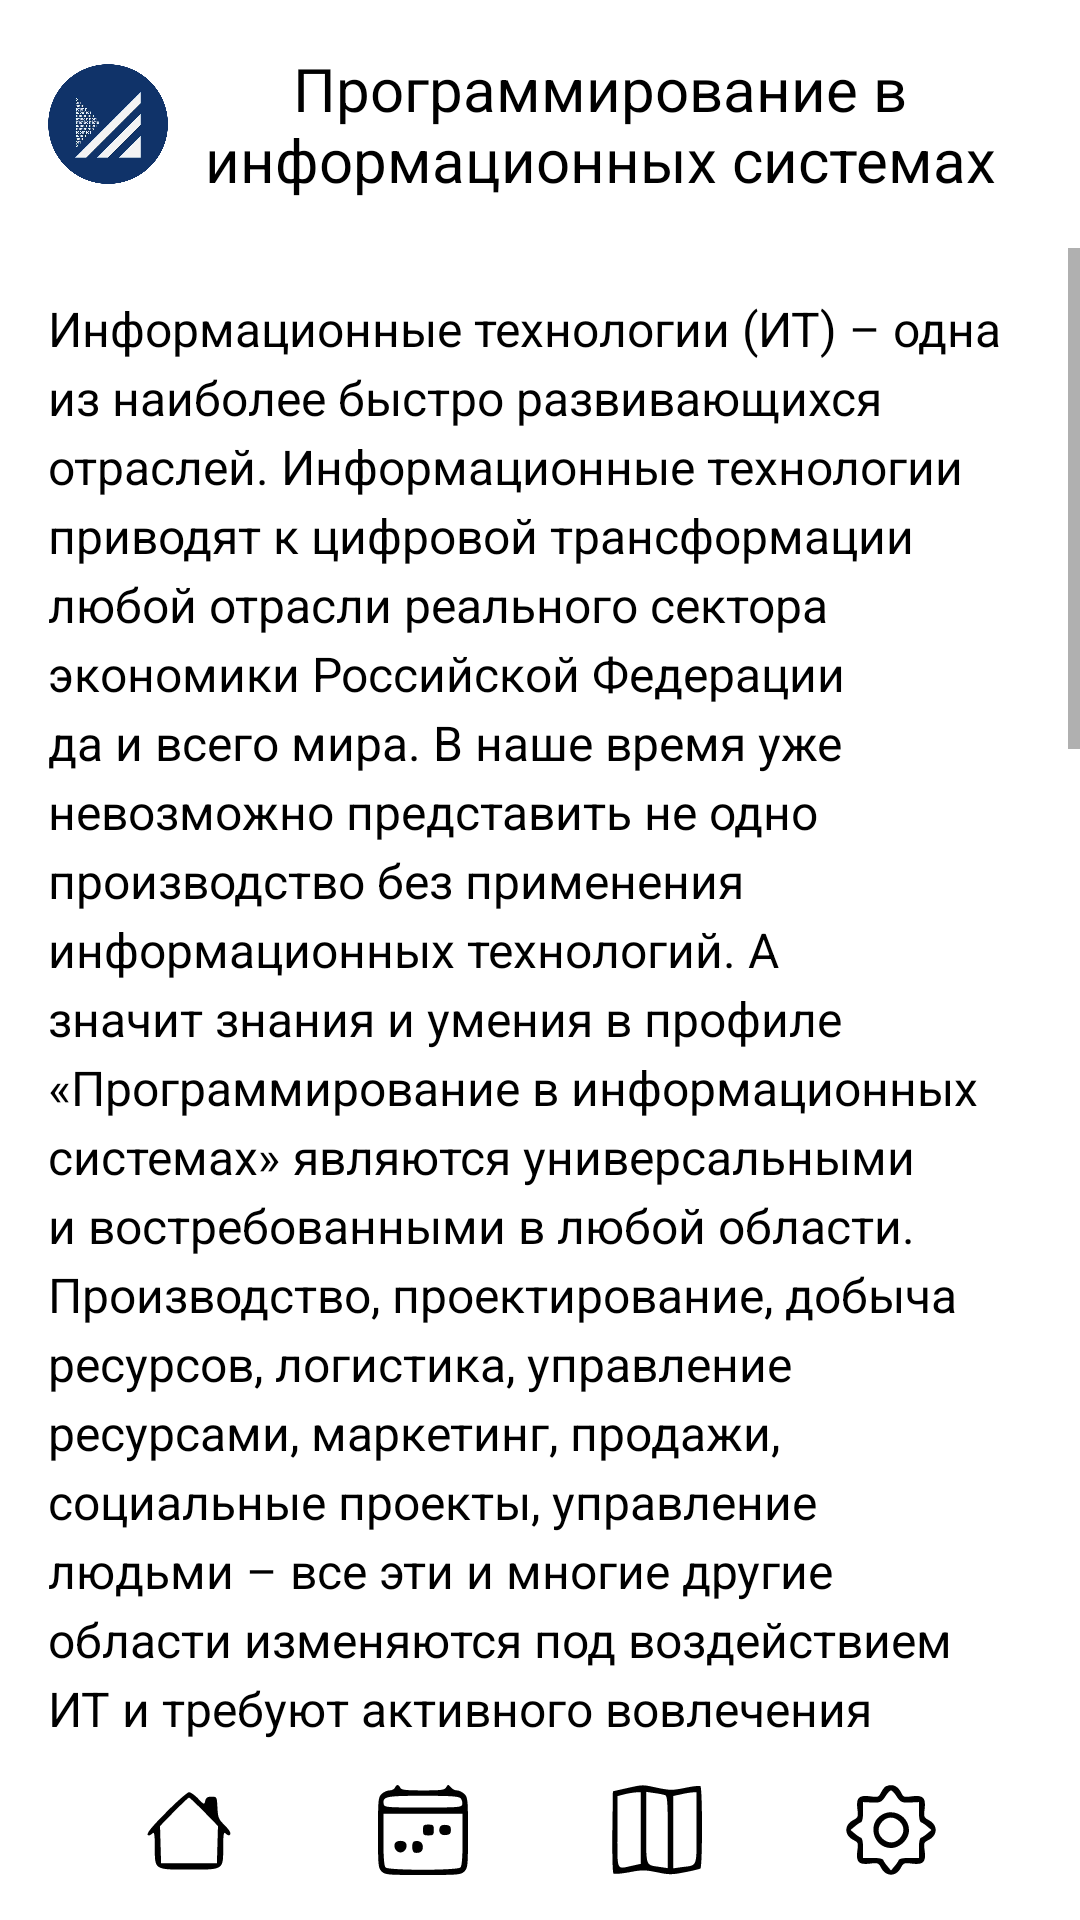

Icon bounding boxes for this 1080 × 1920 phone screenshot, format bbox(x1, y1, x2, y2):
calendar: bbox(378, 1785, 468, 1875)
home: bbox(147, 1792, 231, 1870)
map: bbox(612, 1785, 702, 1875)
settings: bbox(846, 1785, 936, 1875)
